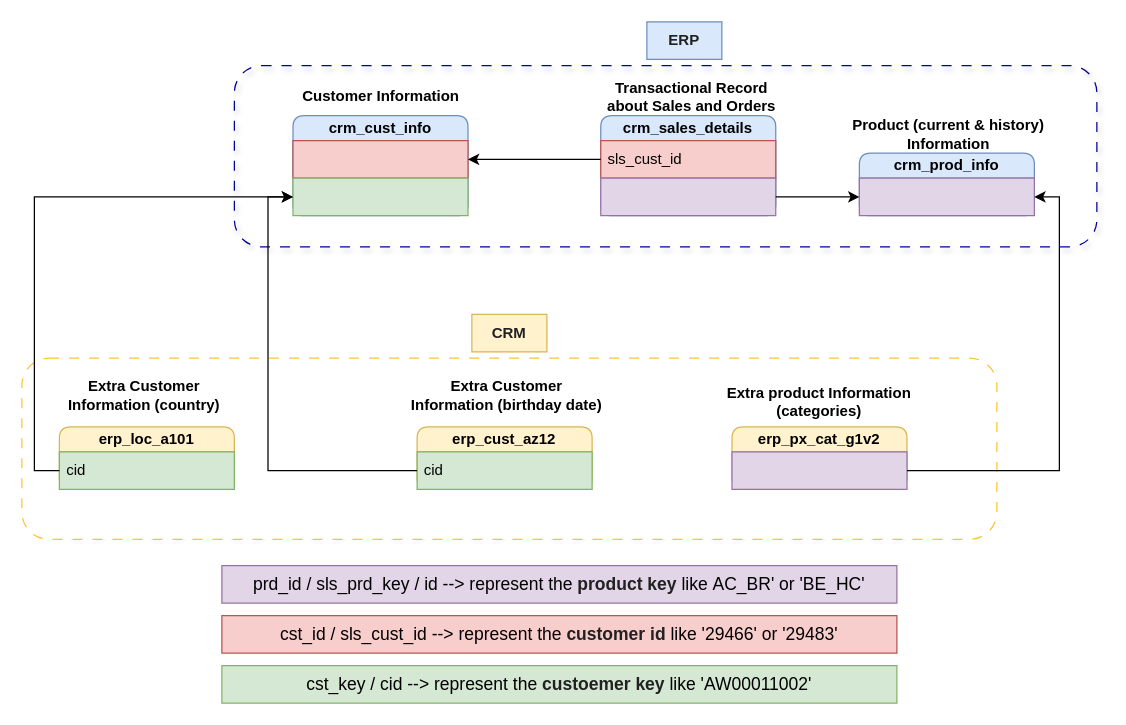
Some shapes in this 1126 by 725 pixel diagram are drawn without their labels. Each missing label, with the centre of its shape:
cst_id: pixel 380 158
cst_key: pixel 380 196
id: pixel 819 470
prd_id: pixel 946 196
sls_prd_key: pixel 688 196
